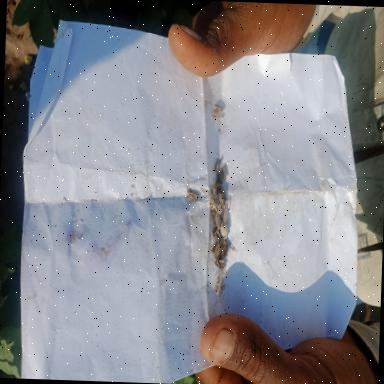pbw: (208, 198, 222, 214), (216, 192, 227, 208), (214, 212, 222, 234), (216, 182, 226, 198), (211, 239, 221, 254), (212, 229, 224, 241), (222, 202, 228, 224), (214, 260, 224, 272), (213, 104, 224, 114), (223, 238, 228, 258), (216, 169, 223, 183), (214, 246, 222, 258), (220, 243, 225, 259), (187, 194, 195, 204), (215, 158, 221, 170), (212, 180, 216, 196), (222, 164, 226, 180), (213, 226, 218, 237)
